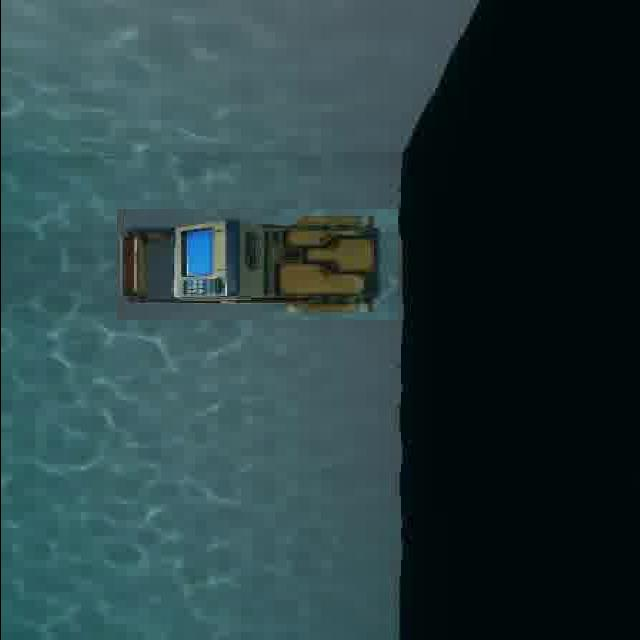Control Panel: (116, 209, 397, 320)
